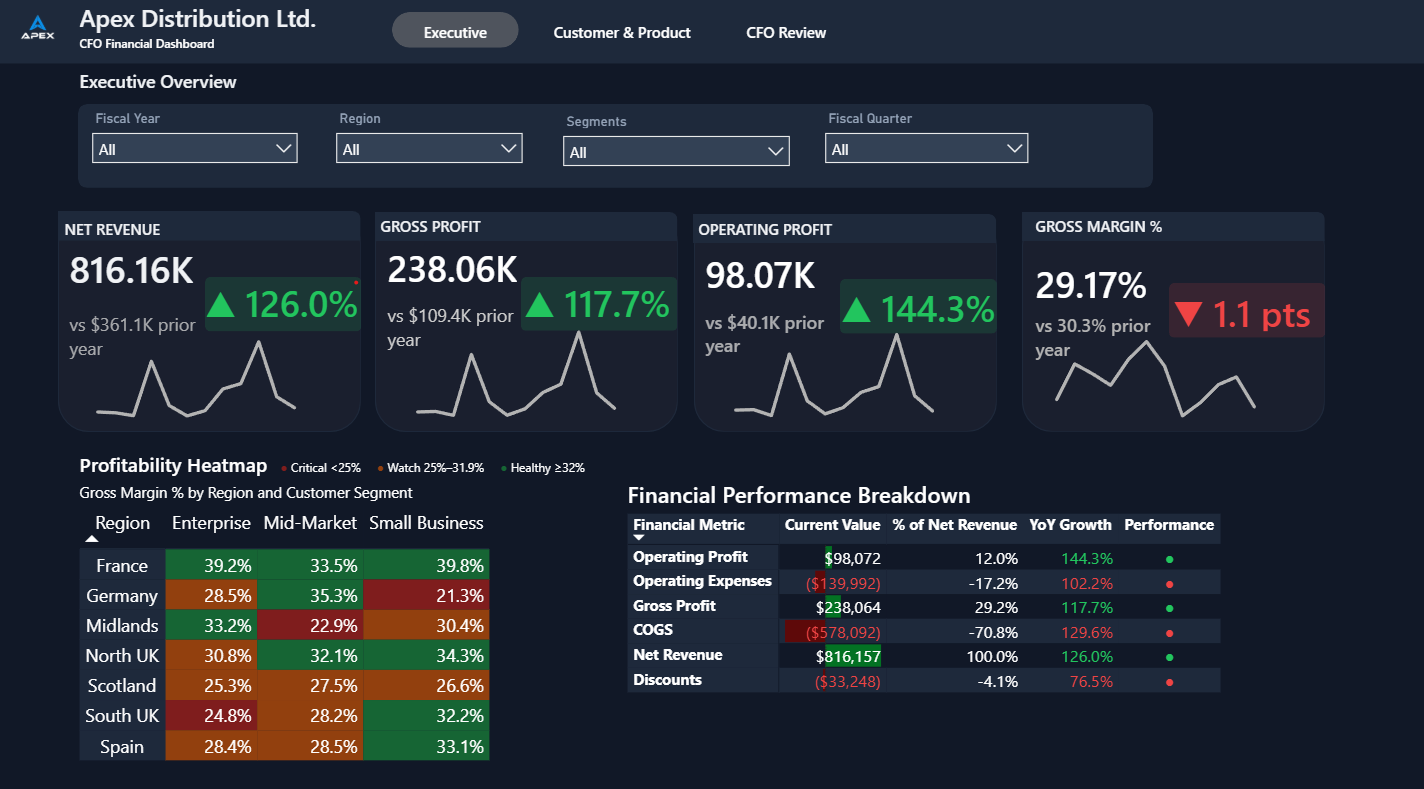

The dashboard page shown, as its layout file describes it:
{"tool":"powerbi","page":{"name":"Executive Overview","canvas":[1280,720],"ordinal":0},"visuals":[{"type":"shape","box":[72.6,99.9,962.7,75.2],"z":0},{"type":"shape","box":[0,0,1279.7,64.5],"z":1000},{"type":"textbox","box":[68.9,3.9,520.6,55.6],"z":2000},{"type":"actionButton","box":[652.4,18.2,108,32],"z":3000},{"type":"actionButton","box":[482.6,18.2,154.5,32],"z":4000},{"type":"actionButton","box":[354.1,18.2,113.5,32],"z":5000},{"type":"slicer","fields":{"Values":["Dim_Calendar.FiscalYear"]},"box":[75.2,101.2,204.2,66.3],"z":6000},{"type":"slicer","fields":{"Values":["Dim_Customers.Region"]},"box":[293.7,101.2,187.2,62.7],"z":7000},{"type":"slicer","fields":{"Values":["Dim_Customers.Segment"]},"box":[497,103.9,223,63.6],"z":8000},{"type":"textbox","box":[69,64,217,44],"z":9000},{"type":"shape","box":[54.6,197,271.3,197],"z":10000},{"type":"shape","box":[185.9,255.2,140,48.8],"z":11000},{"type":"cardVisual","fields":{"Data":["Measure.NET REVENUE"]},"box":[36,200,184,149],"z":12000},{"type":"shape","box":[54.6,196.2,271.1,26.7],"z":13000},{"type":"textbox","box":[55.2,198.4,96.5,27.1],"z":14000},{"type":"lineChart","fields":{"Y":["Measure.NET REVENUE"],"Category":["Dim_Calendar.FiscalMonth"]},"box":[59.1,283,270.4,103.9],"z":15000},{"type":"cardVisual","fields":{"Data":["KPI Helpers.Net Revenue Trend"]},"box":[169,242.8,173.1,66.2],"z":16000},{"type":"shape","box":[338.5,197,271.3,197],"z":17000},{"type":"shape","box":[469.2,255.4,140,48.5],"z":18000},{"type":"cardVisual","fields":{"Data":["Measure.Gross Profit"]},"box":[321,207,179,274],"z":19000},{"type":"shape","box":[338.5,197.2,270.9,26.4],"z":20000},{"type":"textbox","box":[338.5,196.3,116.4,27.3],"z":21000},{"type":"lineChart","fields":{"Y":["Measure.Gross Profit"],"Category":["Dim_Calendar.FiscalMonth"]},"box":[345.7,283,270.4,103.9],"z":22000},{"type":"cardVisual","fields":{"Data":["Measure.Gross Profit Trend Label"]},"box":[455,241.2,187.5,70],"z":23000},{"type":"shape","box":[624.2,199.7,271.3,194.3],"z":24000},{"type":"shape","box":[754.8,256.7,140.5,49],"z":25000},{"type":"shape","box":[623.7,198.6,271.6,26.3],"z":26000},{"type":"textbox","box":[623.7,198.6,172.1,27.4],"z":27000},{"type":"lineChart","fields":{"Y":["Measure.Operating Profit"],"Category":["Dim_Calendar.FiscalMonth"]},"box":[630.4,291.9,270.4,103.9],"z":28000},{"type":"cardVisual","fields":{"Data":["Measure.Operating Profit Trend Label"]},"box":[739.2,245.7,187.3,71.3],"z":29000},{"type":"cardVisual","fields":{"Data":["Measure.Operating Profit"]},"box":[605.4,211.3,177.3,279.4],"z":30000},{"type":"shape","box":[917.9,199.7,271.3,194.3],"z":31000},{"type":"shape","box":[1049.5,260.5,140,49],"z":32000},{"type":"shape","box":[918,197,271.3,26],"z":33000},{"type":"textbox","box":[924.7,196.3,172.7,27.3],"z":34000},{"type":"lineChart","fields":{"Y":["Revenue Growth Scenario.Gross Margin %"],"Category":["Dim_Calendar.FiscalMonth"]},"box":[917.9,296.4,271.3,103],"z":35000},{"type":"cardVisual","fields":{"Data":["Revenue Growth Scenario.Gross Margin Label"]},"box":[1036,249,187,72],"z":36000},{"type":"cardVisual","fields":{"Data":["Revenue Growth Scenario.Gross Margin %"]},"box":[901.3,225.7,178,218.7],"z":37000},{"type":"pivotTable","title":"Financial Performance Breakdown","fields":{"Rows":["Financial Bridge.Step"],"Values":["Dim_Calendar.Bridge Actual","Dim_Calendar.Bridge % Revenue","Dim_Calendar.Bridge YoY","Dim_Calendar.Bridge Status"]},"box":[559.7,435.2,563.3,236.4],"z":38000},{"type":"pivotTable","title":"Profitability Heatmap","fields":{"Rows":["Dim_Customers.Region"],"Columns":["Dim_Customers.Segment"],"Values":["Measure.Gross Margin Pct"]},"box":[69,411,410.1,284.8],"z":39000},{"type":"textbox","box":[249,411,305.4,33.1],"z":40000},{"type":"slicer","fields":{"Values":["Dim_Calendar.FiscalQuarter"]},"box":[731.6,101.2,202.4,69.9],"z":41000},{"type":"image","box":[0,0,72.7,63.6],"z":42000}]}

Visuals, with their boxes in screenshot pixels (x1, y1, x2, y2), scaled from the page's 1280x720 canvas onto the 1424x789 screenshot:
shape: 81 109 1152 192
shape: 0 0 1423 71
textbox: 77 4 656 65
actionButton: 726 20 846 55
actionButton: 537 20 709 55
actionButton: 394 20 520 55
slicer - Dim_Calendar.FiscalYear: 84 111 311 184
slicer - Dim_Customers.Region: 327 111 535 180
slicer - Dim_Customers.Segment: 553 114 801 184
textbox: 77 70 318 118
shape: 61 216 363 432
shape: 207 280 363 333
cardVisual - Measure.NET REVENUE: 40 219 245 382
shape: 61 215 362 244
textbox: 61 217 169 247
lineChart - Measure.NET REVENUE x Dim_Calendar.FiscalMonth: 66 310 367 424
cardVisual - KPI Helpers.Net Revenue Trend: 188 266 381 339
shape: 377 216 678 432
shape: 522 280 678 333
cardVisual - Measure.Gross Profit: 357 227 556 527
shape: 377 216 678 245
textbox: 377 215 506 245
lineChart - Measure.Gross Profit x Dim_Calendar.FiscalMonth: 385 310 685 424
cardVisual - Measure.Gross Profit Trend Label: 506 264 715 341
shape: 694 219 996 432
shape: 840 281 996 335
shape: 694 218 996 246
textbox: 694 218 885 248
lineChart - Measure.Operating Profit x Dim_Calendar.FiscalMonth: 701 320 1002 434
cardVisual - Measure.Operating Profit Trend Label: 822 269 1031 347
cardVisual - Measure.Operating Profit: 674 232 871 538
shape: 1021 219 1323 432
shape: 1168 285 1323 339
shape: 1021 216 1323 244
textbox: 1029 215 1221 245
lineChart - Revenue Growth Scenario.Gross Margin % x Dim_Calendar.FiscalMonth: 1021 325 1323 438
cardVisual - Revenue Growth Scenario.Gross Margin Label: 1153 273 1361 352
cardVisual - Revenue Growth Scenario.Gross Margin %: 1003 247 1201 487
"Financial Performance Breakdown" pivotTable: 623 477 1249 736
"Profitability Heatmap" pivotTable: 77 450 533 762
textbox: 277 450 617 487
slicer - Dim_Calendar.FiscalQuarter: 814 111 1039 187
image: 0 0 81 70
